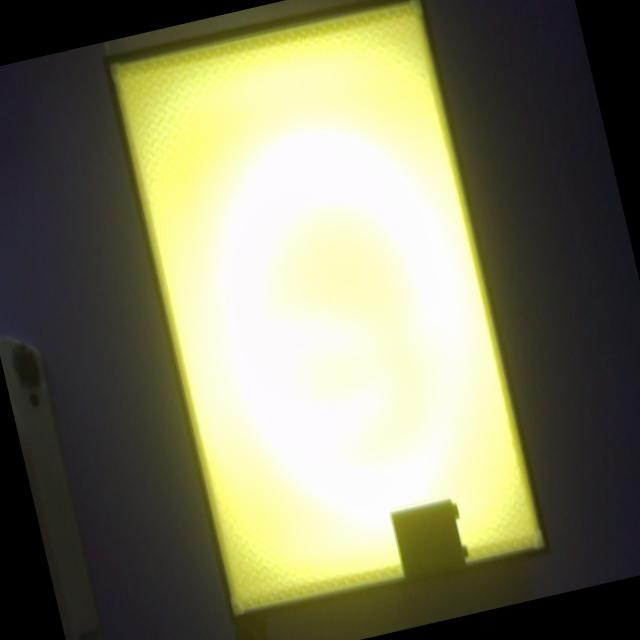bateria: (389, 497, 468, 579)
mesa: (102, 0, 552, 627)
